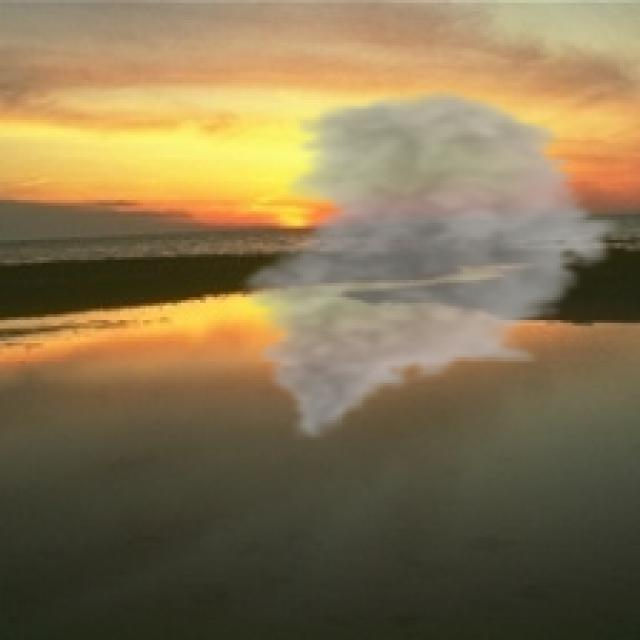Smoke: (231, 86, 626, 443)
